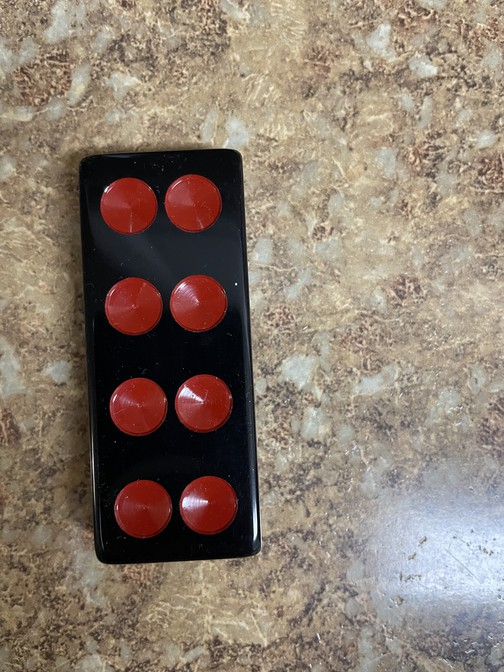man: (78, 152, 263, 564)
